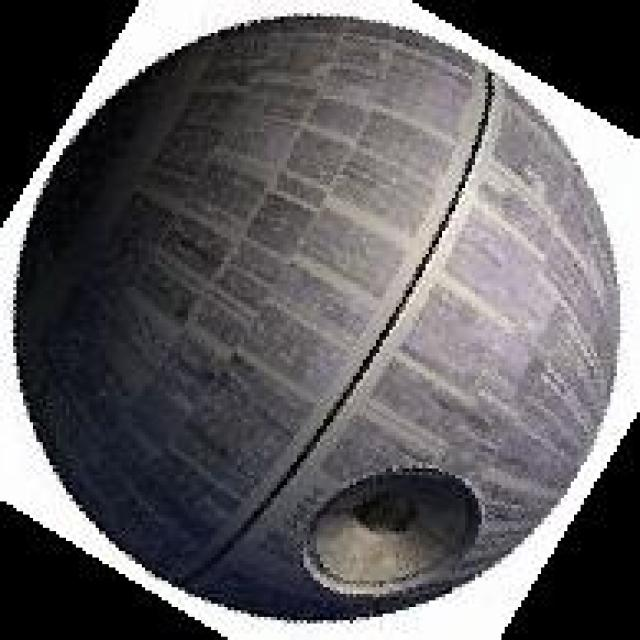Death Star: (0, 3, 630, 630)
